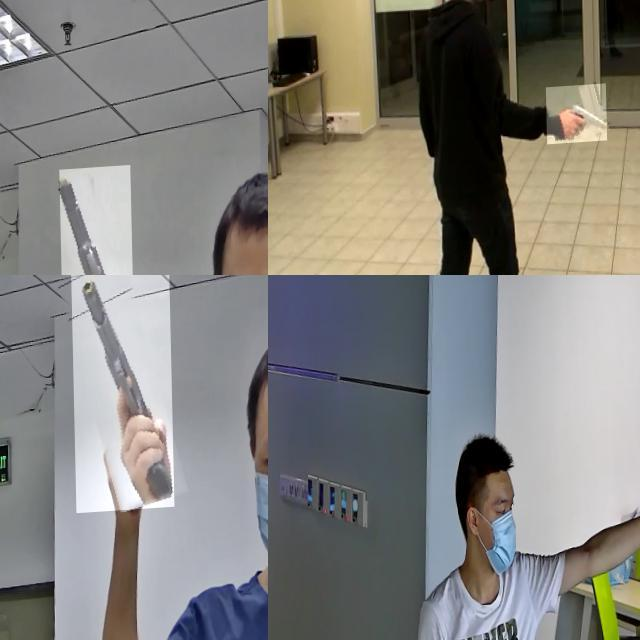gun-knife-thesis - v11 Yolov5 augmented: (70, 275, 172, 516), (58, 169, 132, 275), (544, 88, 604, 148)
